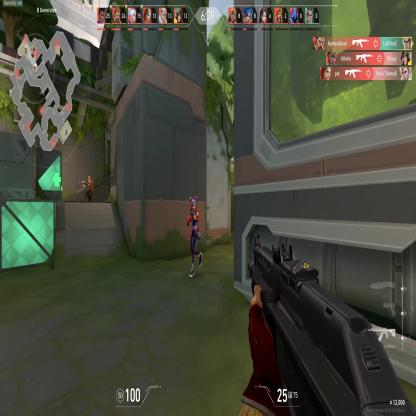enemy: (185, 194, 203, 279), (86, 173, 94, 202)
